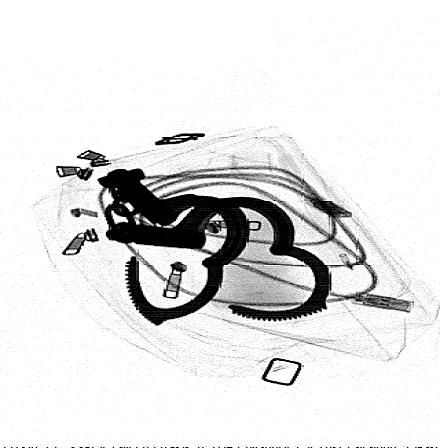HandCuffs: (90, 166, 335, 329)
